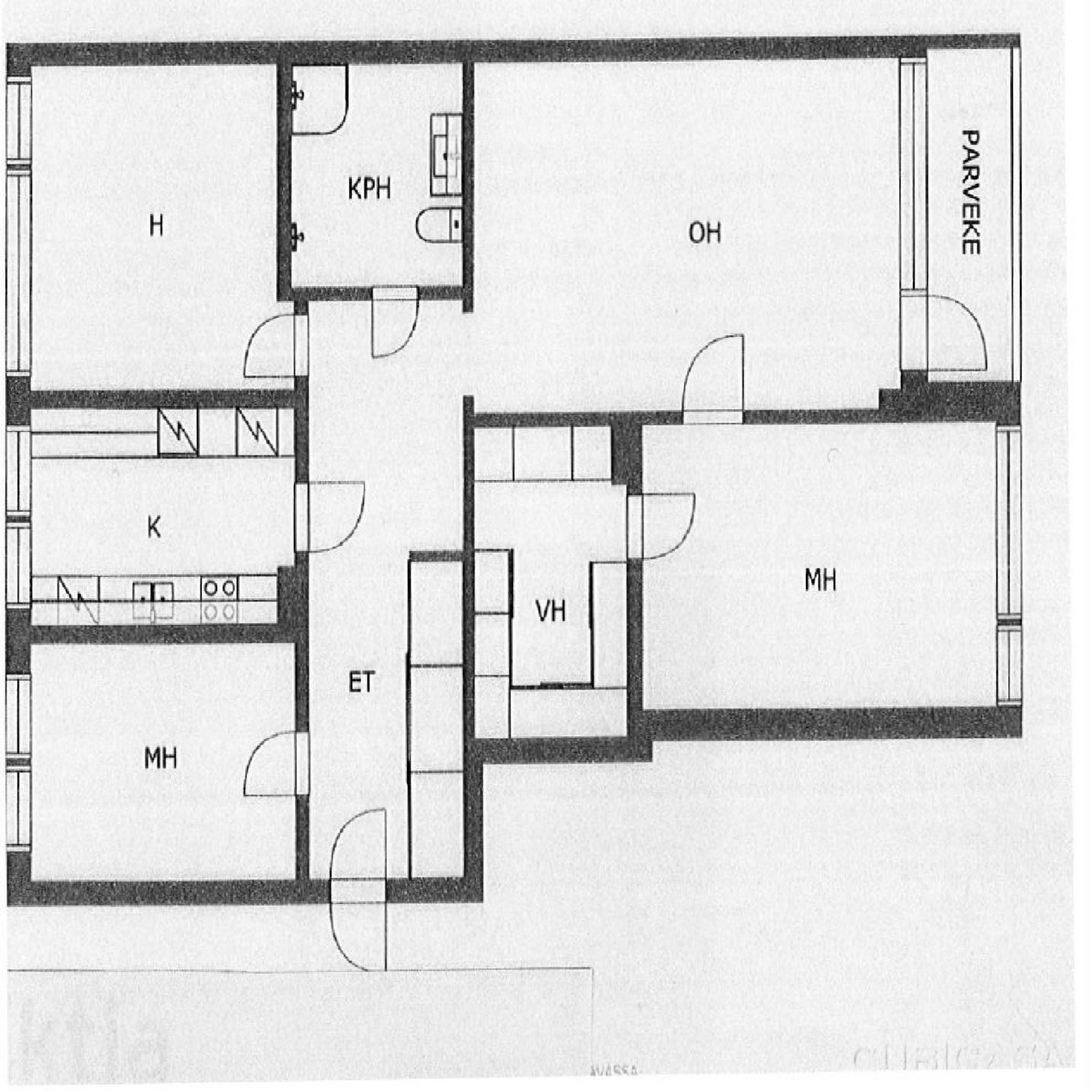wall: (6, 40, 926, 65), (6, 40, 31, 901), (627, 707, 1022, 741), (6, 876, 483, 901), (899, 40, 926, 423), (995, 382, 1022, 741), (297, 285, 309, 901), (463, 408, 879, 423), (6, 389, 309, 408), (6, 624, 277, 643), (899, 382, 1022, 423), (463, 736, 649, 761), (463, 408, 474, 736), (463, 736, 484, 902), (627, 484, 642, 707), (277, 40, 289, 298), (463, 40, 474, 311), (277, 285, 474, 298), (615, 707, 658, 765), (277, 566, 309, 642), (611, 423, 642, 484), (926, 41, 1022, 52), (879, 388, 899, 423), (410, 550, 463, 560), (463, 395, 474, 408)
